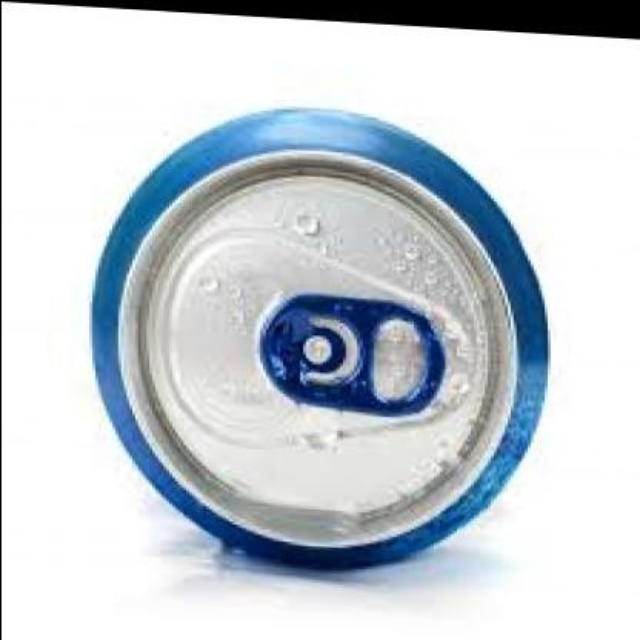trash: (92, 109, 546, 565)
